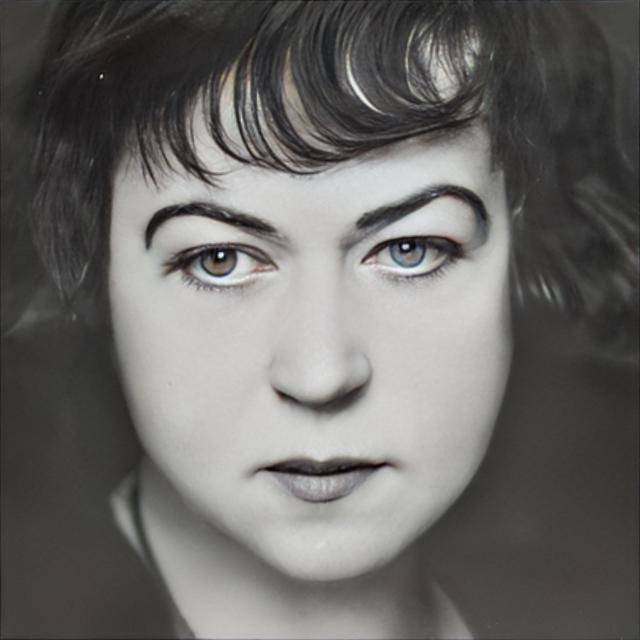neutral: (112, 22, 516, 584)
